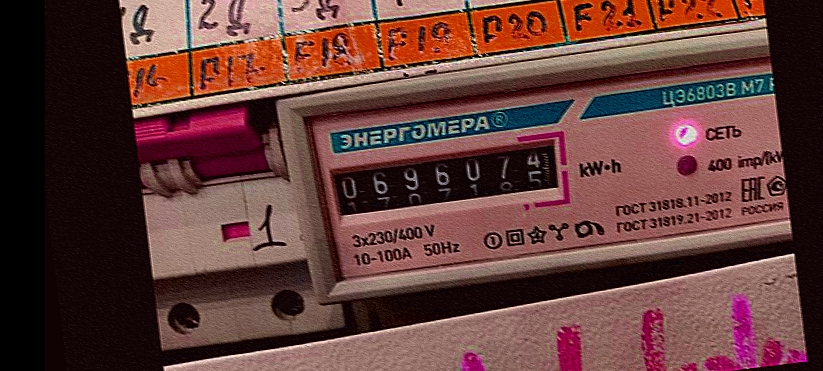0: (339, 172, 360, 199), (464, 154, 483, 182)
4: (525, 146, 542, 169)
5: (528, 168, 544, 188)
6: (370, 168, 391, 195), (433, 158, 452, 187)
7: (495, 152, 514, 179)
9: (402, 164, 422, 192)
screen: (323, 127, 576, 233)
